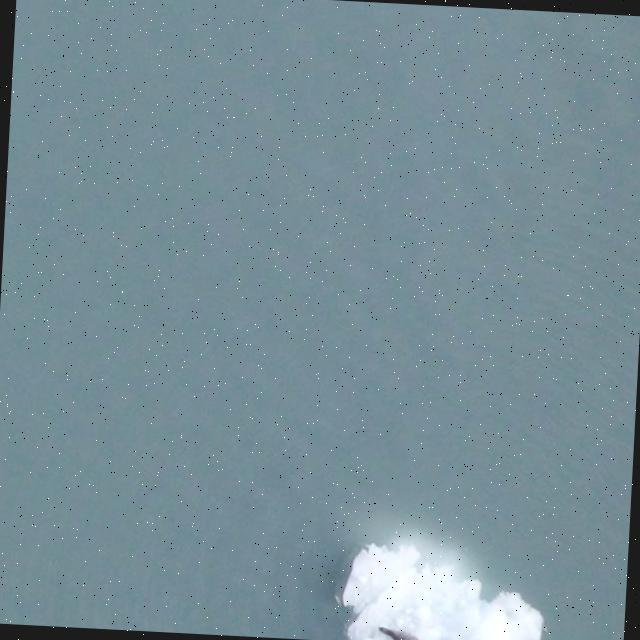seal: (378, 628, 421, 640)
